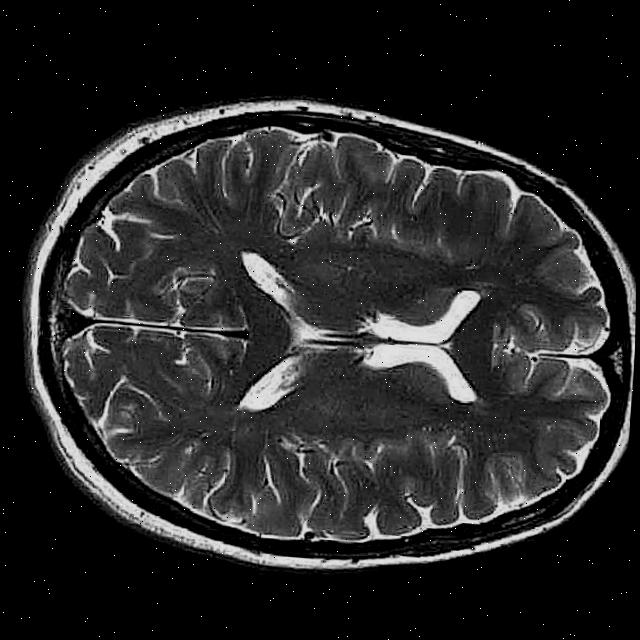NoTumor: (0, 65, 639, 605)
